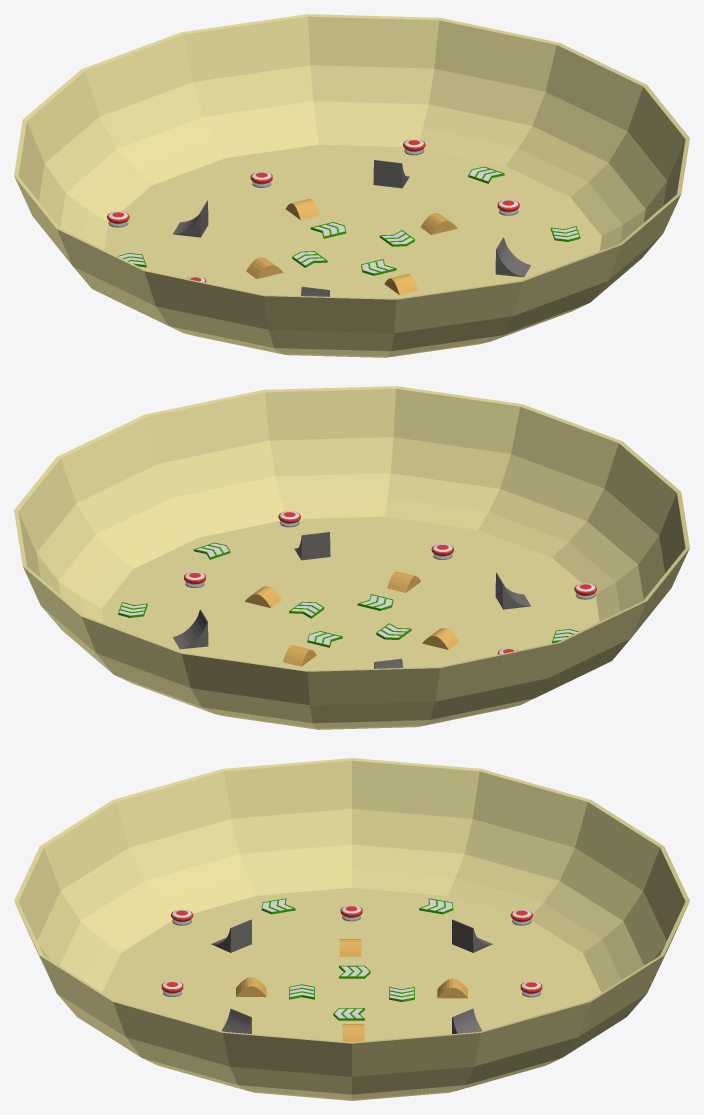
3 views of the same model, one above another, from view 1: azimuth 30°, elevation 25°; view 2: azimuth 150°, elevation 25°; view 3: azimuth 270°, elevation 25° (orthographic).
Parts seen in each view (by area): view 1: Sphere, Rampa 2.006, Rampa 2.004, Rampa 2.001; view 2: Sphere, Rampa 2.004, Rampa 2.006, Rampa 2.005; view 3: Sphere, Rampa 2.001, Rampa 2.005, Rampa 2.004, Rampa 2.006, Lomo.001.
Boxes of the visible parts, x1,y1,x2,y2 form: Sphere: [14, 14, 689, 357]; Rampa 2.006: [373, 160, 409, 188]; Rampa 2.004: [495, 237, 530, 277]; Rampa 2.001: [173, 200, 208, 237]; Sphere: [14, 386, 689, 729]; Rampa 2.004: [294, 532, 330, 560]; Rampa 2.006: [173, 609, 208, 649]; Rampa 2.005: [495, 572, 530, 609]; Sphere: [14, 758, 689, 1100]; Rampa 2.001: [452, 919, 492, 952]; Rampa 2.005: [211, 919, 251, 952]; Rampa 2.004: [221, 1008, 251, 1033]; Rampa 2.006: [452, 1008, 482, 1033]; Lomo.001: [437, 978, 467, 998].
Bounding box in the file's own units: 820 × 126 × 820.
